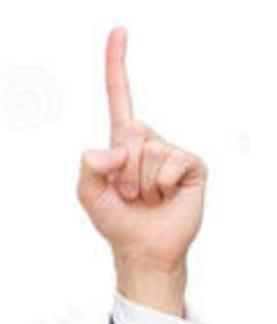up: (76, 26, 221, 254)
